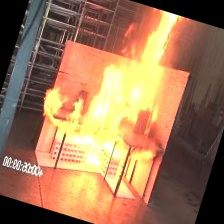fire: (29, 0, 200, 190)
